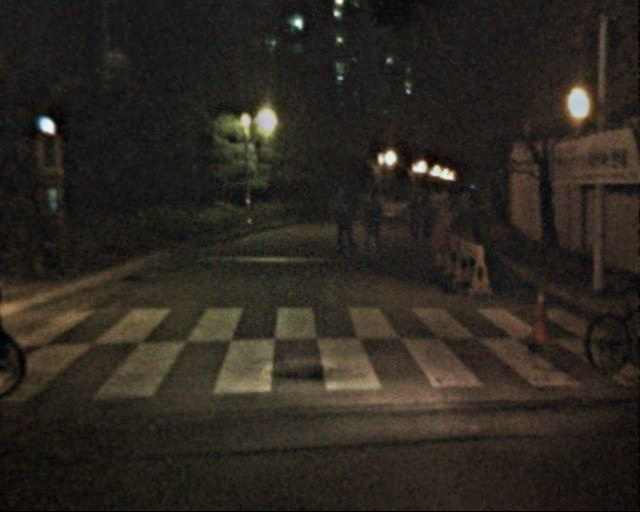person: (325, 184, 357, 262), (355, 188, 386, 263), (401, 188, 424, 243), (414, 193, 435, 244)
